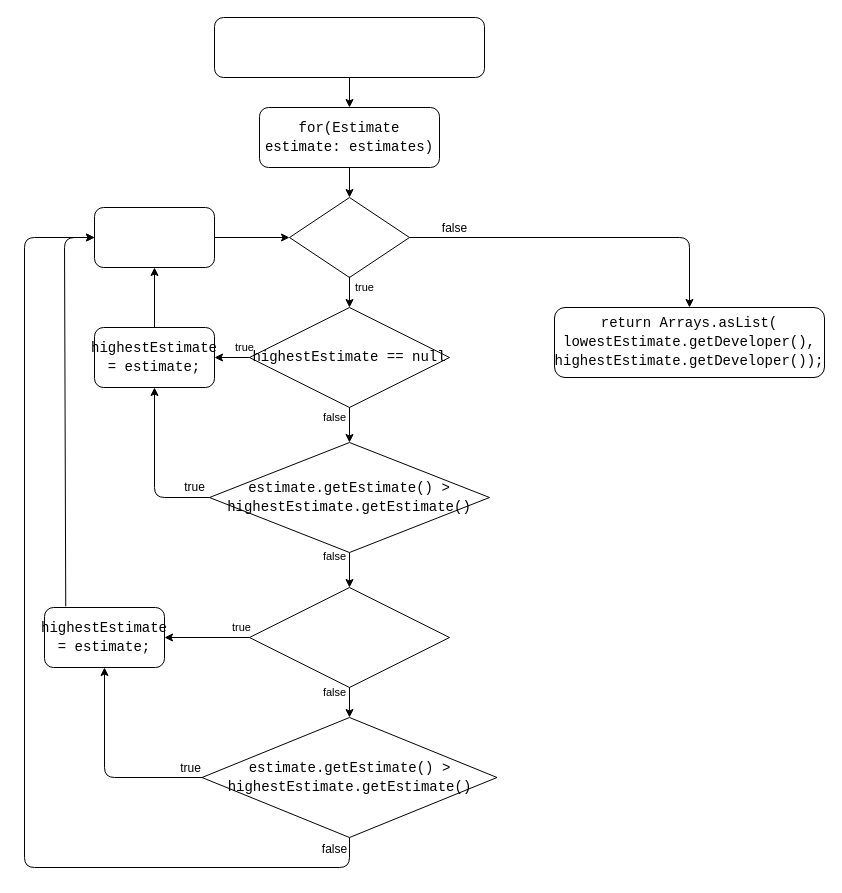
Some shapes in this 842 by 893 pixel diagram are drawn without their labels. The box of each missing label's shape, as (x1, y1, x2, y2) in pixels:
Estimate lowestEstimate = null ; Estimate highestEstimate = null ;: (214, 16, 484, 78)
if estimates: (288, 196, 410, 278)
lowestEstimate == null: (248, 586, 450, 688)
next estimate: (94, 206, 214, 268)
